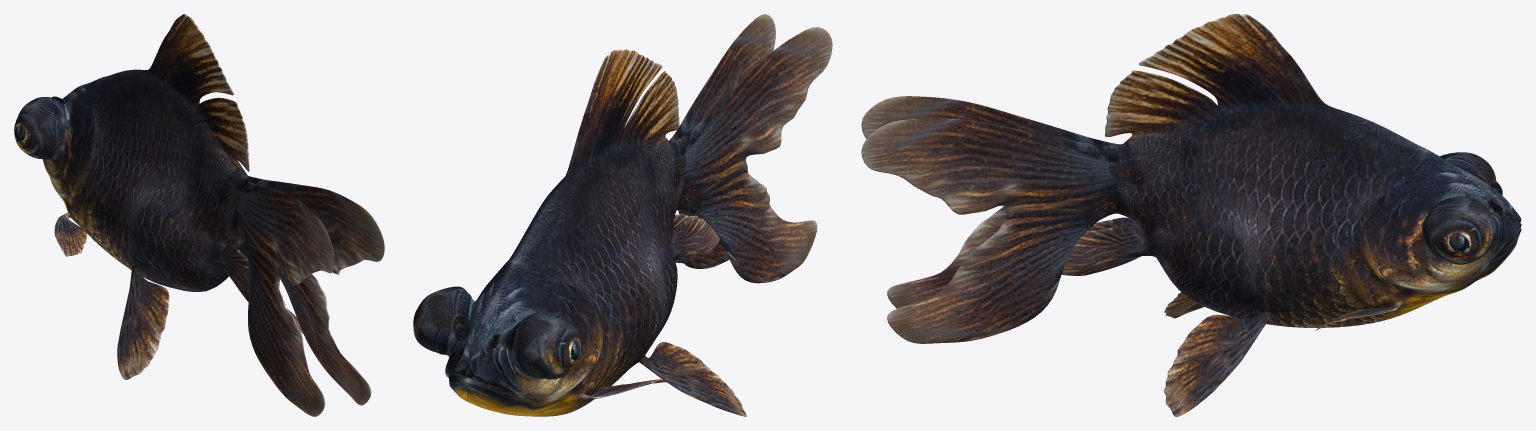
Rendered from 12990_Black_Moor_Goldfish_v1_l2.obj.
3 views of the same model, side by side, from view 1: azimuth 30°, elevation 25°; view 2: azimuth 150°, elevation 25°; view 3: azimuth 270°, elevation 25° (orthographic). The views are drawn at different scales.
Visible parts, largest first — view 1: 12990_Black_Moor_Goldfish_v1_l2; view 2: 12990_Black_Moor_Goldfish_v1_l2; view 3: 12990_Black_Moor_Goldfish_v1_l2.
Boxes of the visible parts, x1,y1,x2,y2 form: 12990_Black_Moor_Goldfish_v1_l2: (14, 14, 384, 416); 12990_Black_Moor_Goldfish_v1_l2: (413, 14, 832, 416); 12990_Black_Moor_Goldfish_v1_l2: (861, 14, 1521, 416).
Size of the model in its own units: 2.78 by 4.59 by 7.77.
Materials: 1 (1 with a texture image).
